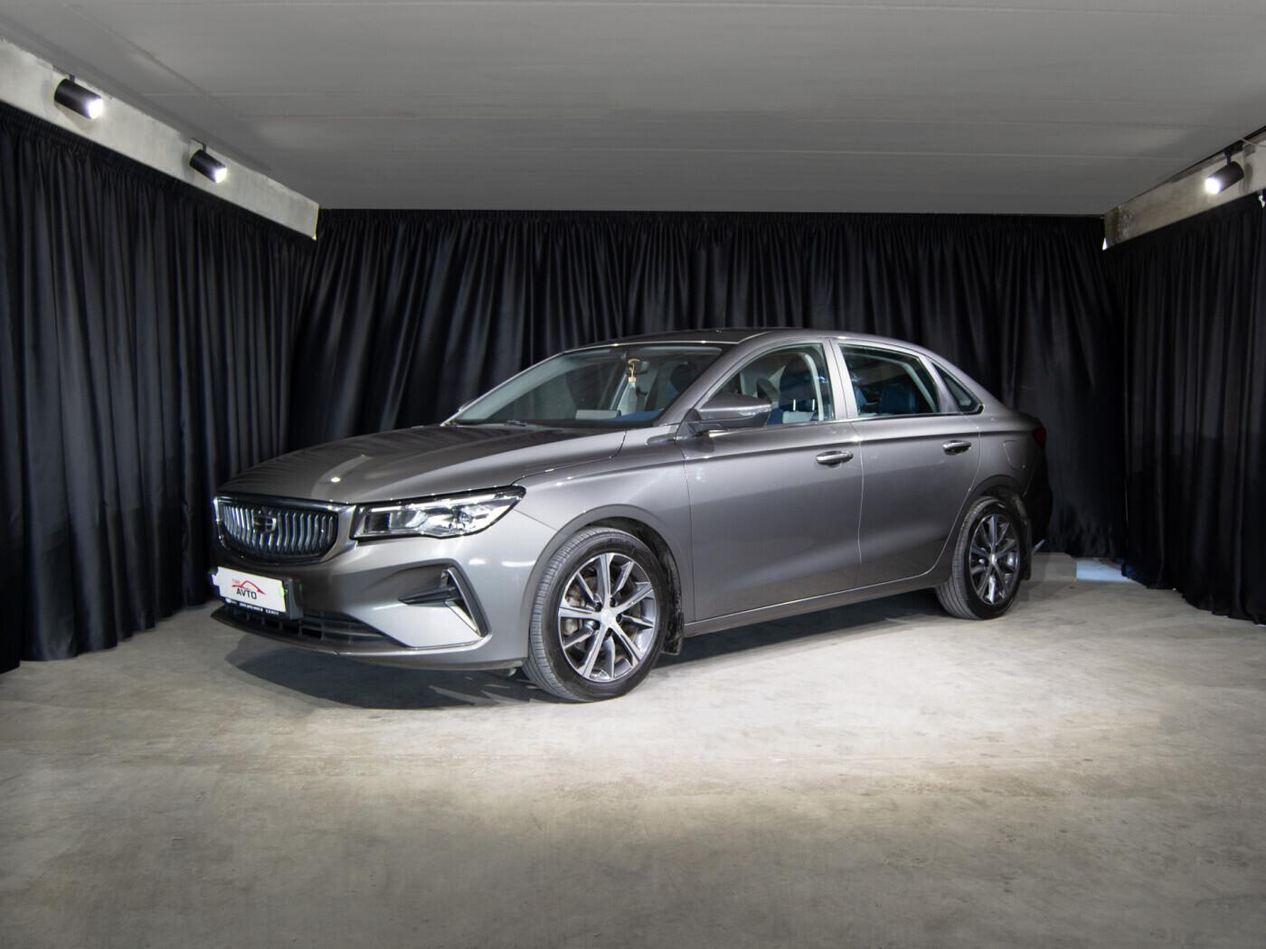Emgrand_2021: (200, 329, 1057, 710)
